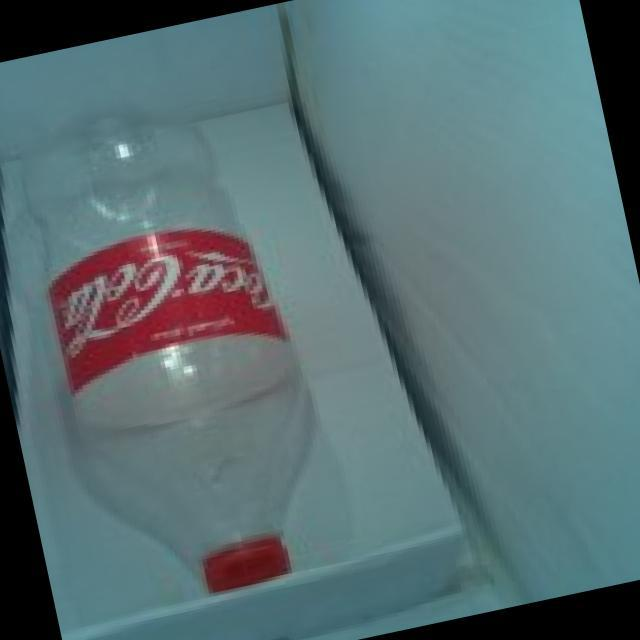good: (0, 73, 357, 636)
